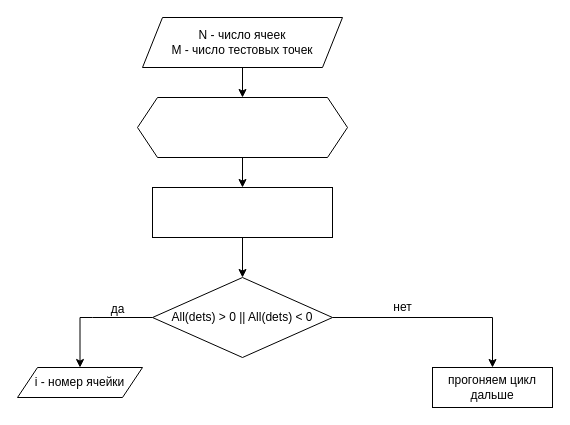
This 570x425 diagram has some shape labels left out. The shapes that lost their labels are listed below. From the top down, each one's centre as x and y in pixels, then its label:
At point (242, 127): "i=1...M j=1...N k=1...K, K - количество углов i-го многоугольника".
At point (242, 212): "det = AkP v AkA(k%K+1) dets.append(det) P - проверяемая точка".
